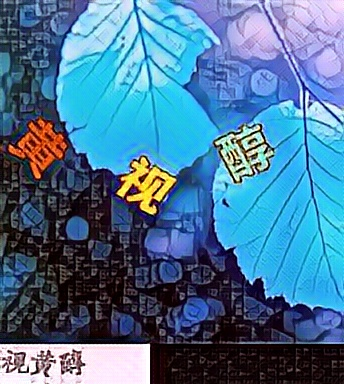B4BC: (211, 118, 274, 185)
BBC6: (6, 113, 69, 180)
CAD3: (115, 151, 178, 218)
